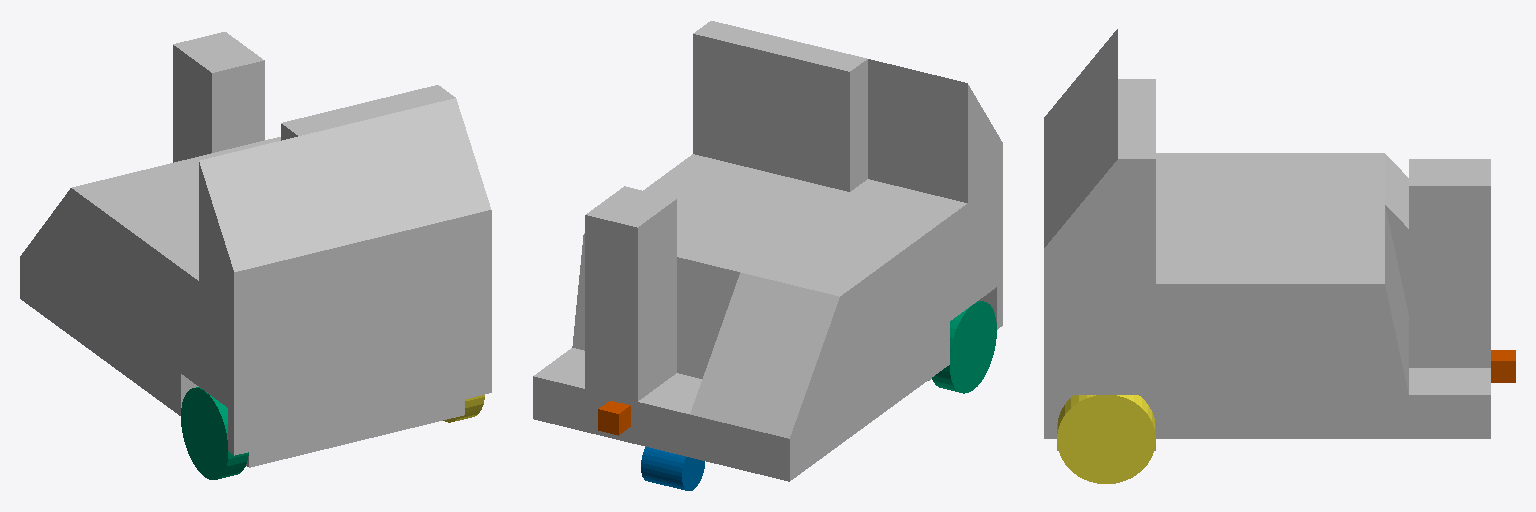
The robot description file, URDF, robot "karcher_urdf":
<?xml version="1.0" ?>
<robot name="karcher_urdf">
	<joint name="front_steer_joint" type="revolute">
		<parent link="chassis"/>
		<child link="front_dummy_link"/>
		<origin rpy="0   1.90000000e-04   0" xyz="0     0.08    0.0175"/>
		<axis xyz="0  0  0.1"/>
		<limit effort="1000.0" lower="-1.5707" upper="1.5707" velocity="100.0"/>
	</joint>
	<link name="front_dummy_link">
		<inertial>
			<mass value="0.1"/>
			<origin rpy="0  0  0" xyz="0  0  0"/>
			<inertia ixx="0" ixy="0" ixz="0" iyy="0" iyz="0" izz="0"/>
		</inertial>
	</link>
	<joint name="front_wheel_joint" type="continuous">
		<parent link="front_dummy_link"/>
		<child link="front_wheel"/>
		<axis xyz="0.1  0  0"/>
	</joint>
	<joint name="rear_left_wheel_joint" type="continuous">
		<parent link="chassis"/>
		<child link="rear_left_wheel"/>
		<origin rpy="3.14159000e+00   1.90000000e-04   3.14159000e+00" xyz="-0.05742 -0.065    0.0275"/>
		<axis xyz="0.1  0  0"/>
	</joint>
	<joint name="rear_right_wheel_joint" type="continuous">
		<parent link="chassis"/>
		<child link="rear_right_wheel"/>
		<origin rpy="3.14159000e+00   1.90000000e-04   3.14159000e+00" xyz="0.05742 -0.065    0.0275"/>
		<axis xyz="0.1  0  0"/>
	</joint>
	<joint name="camera_joint" type="fixed">
		<parent link="chassis"/>
		<child link="camera_link"/>
		<origin xyz="0.02 0.095 0.04" rpy="0 0 0"/>
		<axis xyz="0 1 0" />
	</joint>
	<!-- <joint name="velodyne_base_to_top_joint" type="revolute">
		<parent link="velodyne_base_link"/>
		<child link="velodyne_top_link"/>
		<origin xyz="0 0 0" rpy="0 0 0"/>
		<axis xyz="0 0 1" />
		<limit lower="-[number redacted]" upper="[number redacted]"/>
	</joint>
	<joint name="velodyne_base_to_chassis_joint" type="fixed">
		<parent link="chassis"/>
		<child link="velodyne_base_link"/>
		<origin xyz="0.02 0.07 0.08" rpy="0 0 0"/>
		<axis xyz="0.1 0 0" />
	</joint> -->
	<!-- <joint name="hokuyo_joint" type="fixed">
		<axis xyz="0 1 0" />
		<origin xyz=".15 0 .1" rpy="0 0 0"/>
		<parent link="chassis"/>
		<child link="hokuyo"/>
	</joint> -->
	<joint name="hokuyo_joint" type="fixed">
		<parent link="chassis"/>
		<child link="hokuyo"/>
		<axis xyz="0 1 0" />
		<origin xyz=".02 0.095 .05" rpy="0 0 0"/>
	</joint>

	<link name="chassis">
        <pose>17.947973 -25.932304 2.328076 -0.041901 0.00 1.852004</pose>
		<inertial>
			<mass value="725"/>
			<origin rpy="0  0  0" xyz="0  0  0"/>
			<inertia ixx="322.8" ixy="0" ixz="0" iyy="221.43" iyz="0" izz="290.15"/>
		</inertial>
		<collision name="chassis_collision">
			<origin rpy="0  0  0" xyz="0   0   0.09"/>
			<geometry>
				<mesh filename="package://karcher_urdf/meshes/karcher_model.dae" scale="0.1 0.1 0.1"/>
			</geometry>
		</collision>
		<visual name="chassis_visual">
			<origin rpy="0  0  0" xyz="0   0   0.09"/>
			<geometry>
				<mesh filename="package://karcher_urdf/meshes/karcher_model.dae" scale="0.1 0.1 0.1"/>
			</geometry>
		</visual>
	</link>
	<link name="rear_left_wheel">
		<inertial>
			<mass value="10"/>
			<origin rpy="0  0  0" xyz="0  0  0"/>
			<inertia ixx="0.325" ixy="0" ixz="0" iyy="0.325" iyz="0" izz="0.5354"/>
		</inertial>
		<collision name="rear_left_wheel_collision">
			<origin rpy="0     -1.5707  0" xyz="0  0  0"/>
			<geometry>
				<sphere radius="0.02"/>
			</geometry>
		</collision>
		<visual name="rear_left_wheel_visual">
			<origin rpy="0     -1.5707  0" xyz="0  0  0"/>
			<geometry>
				<cylinder length="0.01016" radius="0.02"/>
			</geometry>
		</visual>
	</link>
	<link name="rear_right_wheel">
		<inertial>
			<mass value="10"/>
			<origin rpy="0  0  0" xyz="0  0  0"/>
			<inertia ixx="0.325" ixy="0" ixz="0" iyy="0.325" iyz="0" izz="0.5354"/>
		</inertial>
		<collision name="rear_right_wheel_collision">
			<origin rpy="0     -1.5707  0" xyz="0  0  0"/>
			<geometry>
				<sphere radius="0.02"/>
			</geometry>
		</collision>
		<visual name="rear_right_wheel_visual">
			<origin rpy="0     -1.5707  0" xyz="0  0  0"/>
			<geometry>
				<cylinder length="0.01016" radius="0.02"/>
			</geometry>
		</visual>
	</link>
	<link name="front_wheel">
		<inertial>
			<mass value="5"/>
			<origin rpy="0  0  0" xyz="0  0  0"/>
			<inertia ixx="0.02917" ixy="0" ixz="0" iyy="0.02917" iyz="0" izz="0.025"/>
		</inertial>
		<collision name="front_wheel_collision">
			<origin rpy="0     -1.5707  0" xyz="0  0  0"/>
			<geometry>
				<sphere radius="0.01"/>
			</geometry>
		</collision>
		<visual name="front_wheel_visual">
			<origin rpy="0     -1.5707  0" xyz="0  0  0"/>
			<geometry>
				<cylinder length="0.02" radius="0.01"/>
			</geometry>
		</visual>
	</link>
	<link name="camera_link">
		<inertial>
			<mass value="0.1" />
			<origin  rpy="0 0 0" xyz="0 0 0"/>
			<inertia ixx="1e-6" ixy="0" ixz="0" iyy="1e-6" iyz="0" izz="1e-6" />
		</inertial>
		<collision name="camera_link_collision">
			<origin  rpy="0 0 0" xyz="0 0 0"/>
			<geometry>
				<box size="0.01 0.01 0.01"/>
			</geometry>
		</collision>
		<visual name="camera_link_visual">
			<origin  rpy="0 0 0" xyz="0 0 0"/>
			<geometry>
				<box size="0.01 0.01 0.01"/>
			</geometry>
		</visual>
	</link>

	<!-- Velodyne LiDAR -->
	<!-- <link name="velodyne_base_link">
		<pose>0 0 0.029335 0 0 0</pose>
		<inertial>
			<mass value="1.2" />
			<origin  rpy="0 0 0" xyz="0 0 0"/>
			<inertia ixx="0.001087473" ixy="0" ixz="0" iyy="0.001087473" iyz="0" izz="0.001092437" />
		</inertial>
		<collision name="velodyne_base_collision">
			<origin  rpy="0 0 0" xyz="0 0 0"/>
			<geometry>
				<cylinder length="0.05867" radius="0.04267"/>
			</geometry>
		</collision>
		<visual name="velodyne_base_visual">
			<origin rpy="0 0 0" xyz="0 -0.029335 0"/>
			<geometry>
				<mesh filename="package://karcher_urdf/meshes/velodyne_base.dae" scale="1 1 1"/>
			</geometry>
		</visual>
	</link>

	<link name="velodyne_top_link">
		<pose>0 0 0.095455 0 0 0</pose>
		<inertial>
			<mass value="0.1" />
			<origin  rpy="0 0 0" xyz="0 0 0"/>
			<inertia ixx="0.000090623" ixy="0" ixz="0" iyy="0.000090623" iyz="0" izz="0.000091036" />
		</inertial>
		<collision name="velodyne_top_collision">
			<origin  rpy="0 0 0" xyz="0 0 0"/>
			<geometry>
				<cylinder length="0.07357" radius="0.04267"/>
			</geometry>
		</collision>
		<visual name="velodyne_top_visual">
			<origin rpy="0 0 1.5707" xyz="0 0 -0.0376785"/>
			<geometry>
				<mesh filename="package://karcher_urdf/meshes/velodyne_top.dae" scale="1 1 1"/>
			</geometry>
		</visual>
	</link> -->

	 <!-- Hokuyo Laser -->
	<link name="hokuyo">
		<collision>
			<origin xyz="0 0 0" rpy="0 0 0"/>
			<geometry>
				<box size="0.01 0.01 0.01"/>
			</geometry>
		</collision>

		<visual>
			<origin xyz="0 0 0" rpy="0 0 0"/>
			<geometry>
				<mesh filename="package://karcher_urdf/meshes/hokuyo.dae" scale="0.1 0.1 0.1"/>
			</geometry>
		</visual>

		<inertial>
			<mass value="1e-5" />
			<origin xyz="0 0 0" rpy="0 0 0"/>
			<inertia ixx="1e-6" ixy="0" ixz="0" iyy="1e-6" iyz="0" izz="1e-6" />
		</inertial>
  	</link>


	<transmission name="front_steer_trans">
		<type>transmission_interface/SimpleTransmission</type>
		<joint name="front_steer_joint">
			<hardwareInterface>hardware_interface/EffortJointInterface</hardwareInterface>
		</joint>
		<actuator name="front_steer_act">
			<hardwareInterface>hardware_interface/EffortJointInterface</hardwareInterface>
			<mechanicalReduction>1</mechanicalReduction>
		</actuator>
	</transmission>
	<transmission name="front_wheel_trans">
		<type>transmission_interface/SimpleTransmission</type>
		<joint name="front_wheel_joint">
			<hardwareInterface>hardware_interface/EffortJointInterface</hardwareInterface>
		</joint>
		<actuator name="front_wheel_act">
			<hardwareInterface>hardware_interface/EffortJointInterface</hardwareInterface>
			<mechanicalReduction>1</mechanicalReduction>
		</actuator>
	</transmission>
	<transmission name="rear_right_wheel_trans">
		<type>transmission_interface/SimpleTransmission</type>
		<joint name="rear_right_wheel_joint">
			<hardwareInterface>hardware_interface/EffortJointInterface</hardwareInterface>
		</joint>
		<actuator name="rear_right_wheel_act">
			<hardwareInterface>hardware_interface/EffortJointInterface</hardwareInterface>
			<mechanicalReduction>1</mechanicalReduction>
		</actuator>
	</transmission>
	<transmission name="rear_left_wheel_trans">
		<type>transmission_interface/SimpleTransmission</type>
		<joint name="rear_left_wheel_joint">
			<hardwareInterface>hardware_interface/EffortJointInterface</hardwareInterface>
		</joint>
		<actuator name="rear_left_wheel_act">
			<hardwareInterface>hardware_interface/EffortJointInterface</hardwareInterface>
			<mechanicalReduction>1</mechanicalReduction>
		</actuator>
	</transmission>

	<gazebo reference="camera_link">
		<sensor type="camera" name="camera1">
		<update_rate>30.0</update_rate>
		<camera name="head">
			<horizontal_fov>1.3962634</horizontal_fov>
			<image>
			<width>800</width>
			<height>800</height>
			<format>R8G8B8</format>
			</image>
			<clip>
			<near>0.02</near>
			<far>300</far>
			</clip>
			<noise>
			<type>gaussian</type>
			<!-- Noise is sampled independently per pixel on each frame.
				That pixel's noise value is added to each of its color
				channels, which at that point lie in the range [0,1]. -->
			<mean>0.0</mean>
			<stddev>0.007</stddev>
			</noise>
		</camera>
		<plugin name="camera_controller" filename="libgazebo_ros_camera.so">
			<alwaysOn>true</alwaysOn>
			<updateRate>0.0</updateRate>
			<cameraName>karcher/camera1</cameraName>
			<imageTopicName>image_raw</imageTopicName>
			<cameraInfoTopicName>camera_info</cameraInfoTopicName>
			<frameName>camera_link</frameName>
			<hackBaseline>0.07</hackBaseline>
			<distortionK1>0.0</distortionK1>
			<distortionK2>0.0</distortionK2>
			<distortionK3>0.0</distortionK3>
			<distortionT1>0.0</distortionT1>
			<distortionT2>0.0</distortionT2>
		</plugin>
		</sensor>
	</gazebo>

	<!-- <gazebo reference="velodyne_top_link">
		<sensor type="ray" name="velodyne1">
			<pose>0 0 -0.004645 1.5707 0 0</pose>
			<visualize>true</visualize>
			<update_rate>10</update_rate>
			<ray>
				<noise>
					<type>gaussian</type>
					<mean>0.0</mean>
					<stddev>0.1</stddev>
				</noise>
				<scan>
					<horizontal>
						<samples>32</samples>
						<resolution>1</resolution>
						<min_angle>-0.53529248</min_angle>
						<max_angle>0.18622663</max_angle>
					</horizontal>
				</scan>
				<range>
					<min>0.1</min>
					<max>70.0</max>
					<resolution>0.02</resolution>
				</range>
			</ray>
			<plugin name="velodyne_control" filename="libvelodyne_plugin.so">
				<velocity>25</velocity>
			</plugin>
		</sensor>
	</gazebo> -->

	<gazebo reference="hokuyo">
		<sensor type="gpu_ray" name="head_hokuyo_sensor">
		<pose>0 0 0 0 0 0</pose>
		<visualize>false</visualize>
		<update_rate>40</update_rate>
		<ray>
			<scan>
				<horizontal>
					<samples>720</samples>
					<resolution>1</resolution>
					<min_angle>-1.570796</min_angle>
					<max_angle>1.570796</max_angle>
				</horizontal>
			</scan>
			<range>
				<min>0.01</min>
				<max>30.0</max>
				<resolution>0.01</resolution>
			</range>
			<noise>
				<type>gaussian</type>
				<!-- Noise parameters based on published spec for Hokuyo laser
					achieving "+-30mm" accuracy at range < 10m.  A mean of 0.0m and
					stddev of 0.01m will put 99.7% of samples within 0.03m of the true
					reading. -->
				<mean>0.0</mean>
				<stddev>0.01</stddev>
			</noise>
		</ray>
		<plugin name="gazebo_ros_head_hokuyo_controller" filename="libgazebo_ros_gpu_laser.so">
			<topicName>/karcher/laser/scan</topicName>
			<frameName>hokuyo</frameName>
		</plugin>
		</sensor>
	</gazebo>

	<gazebo>
		<plugin name="KarcherUrdfPlugin" filename="libKarcherUrdfPlugin.so">
			<max_steer>0.442</max_steer>
			<max_speed>1.5278</max_speed>
			<fwheel_steering_p_gain>3</fwheel_steering_p_gain>
			<fwheel_steering_i_gain>4</fwheel_steering_i_gain>
			<fwheel_steering_d_gain>1</fwheel_steering_d_gain>
			<chassis_aero_force_gain>0.63045</chassis_aero_force_gain>
			<front_torque>0</front_torque>
			<back_torque>200</back_torque>
			<front_brake_torque>0</front_brake_torque>
			<back_brake_torque>200</back_brake_torque>
			<wheel_base>1.006</wheel_base>
			<rear_track>1.1494</rear_track>
		</plugin>
		<plugin name="gazebo_ros_control" filename="libgazebo_ros_control.so">
			<robotNamespace>/karcher_urdf</robotNamespace>
		</plugin>
	</gazebo>
</robot>

--- What the picture shows (computed from the rendered views, not written in the file) ---
Views: 3 orthographic renders of the robot side by side, from view 1: azimuth 30°, elevation 25°; view 2: azimuth 150°, elevation 25°; view 3: azimuth 270°, elevation 25°.
Robot: karcher_urdf — 7 links, 6 joints (1 revolute, 3 continuous, 2 fixed); root link chassis; default pose: every joint at zero.
Links seen in each view (by area): view 1: chassis, rear_left_wheel; view 2: chassis, rear_left_wheel, front_wheel, camera_link; view 3: chassis, rear_right_wheel, camera_link.
Link boxes in pixels (box(x1,y1,x2,y2)): chassis: box(20, 32, 491, 467); rear_left_wheel: box(181, 387, 248, 479); chassis: box(533, 21, 1002, 481); rear_left_wheel: box(932, 300, 996, 393); front_wheel: box(641, 447, 704, 490); camera_link: box(598, 401, 630, 435); chassis: box(1044, 29, 1490, 450); rear_right_wheel: box(1057, 395, 1155, 483); camera_link: box(1491, 350, 1515, 382).
Bounding box of the posed robot: 0.125 × 0.19 × 0.145 m (x, y, z).
1 mesh visuals loaded from 2 distinct referenced files (1 Collada DAE); not drawn: 1 (reference not matched to a file when rendering).
